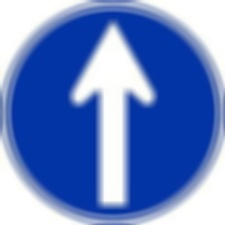Direction_sign: (2, 3, 224, 223)
